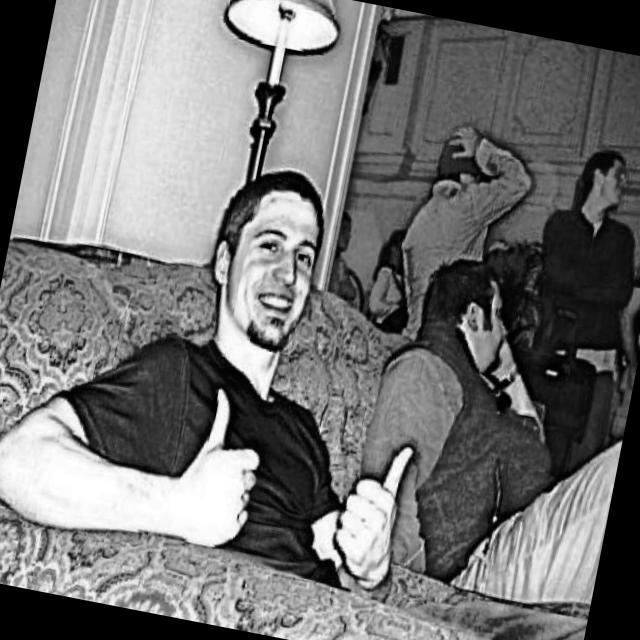Person: (0, 118, 465, 605), (338, 243, 640, 620), (497, 141, 640, 487), (383, 113, 546, 360)
